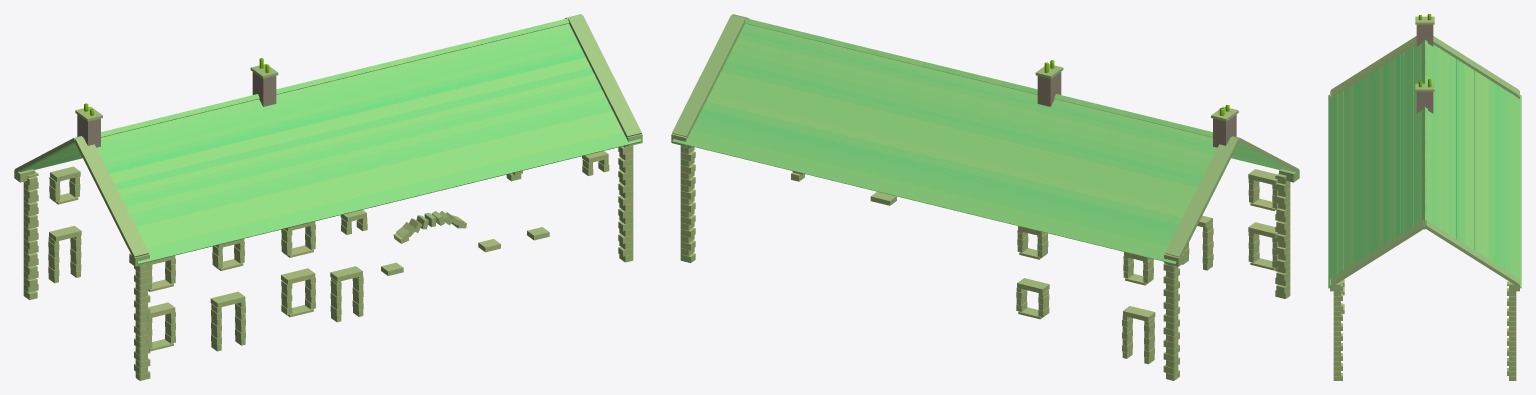
File: SM_Bld_059_Stone.glb
3 renders of one model, left to right at view 1: azimuth 30°, elevation 25°; view 2: azimuth 150°, elevation 25°; view 3: azimuth 270°, elevation 25°, orthographic. The views are drawn at different scales.
Parts seen in each view (by area): view 1: SM_Bld_059_Stone; view 2: SM_Bld_059_Stone; view 3: SM_Bld_059_Stone.
Boxes of the visible parts, <box> form: SM_Bld_059_Stone: <box>14,14,642,380</box>; SM_Bld_059_Stone: <box>671,14,1299,380</box>; SM_Bld_059_Stone: <box>1328,14,1521,380</box>.
Size of the model in its own units: 25.03 by 10.96 by 10.53.
